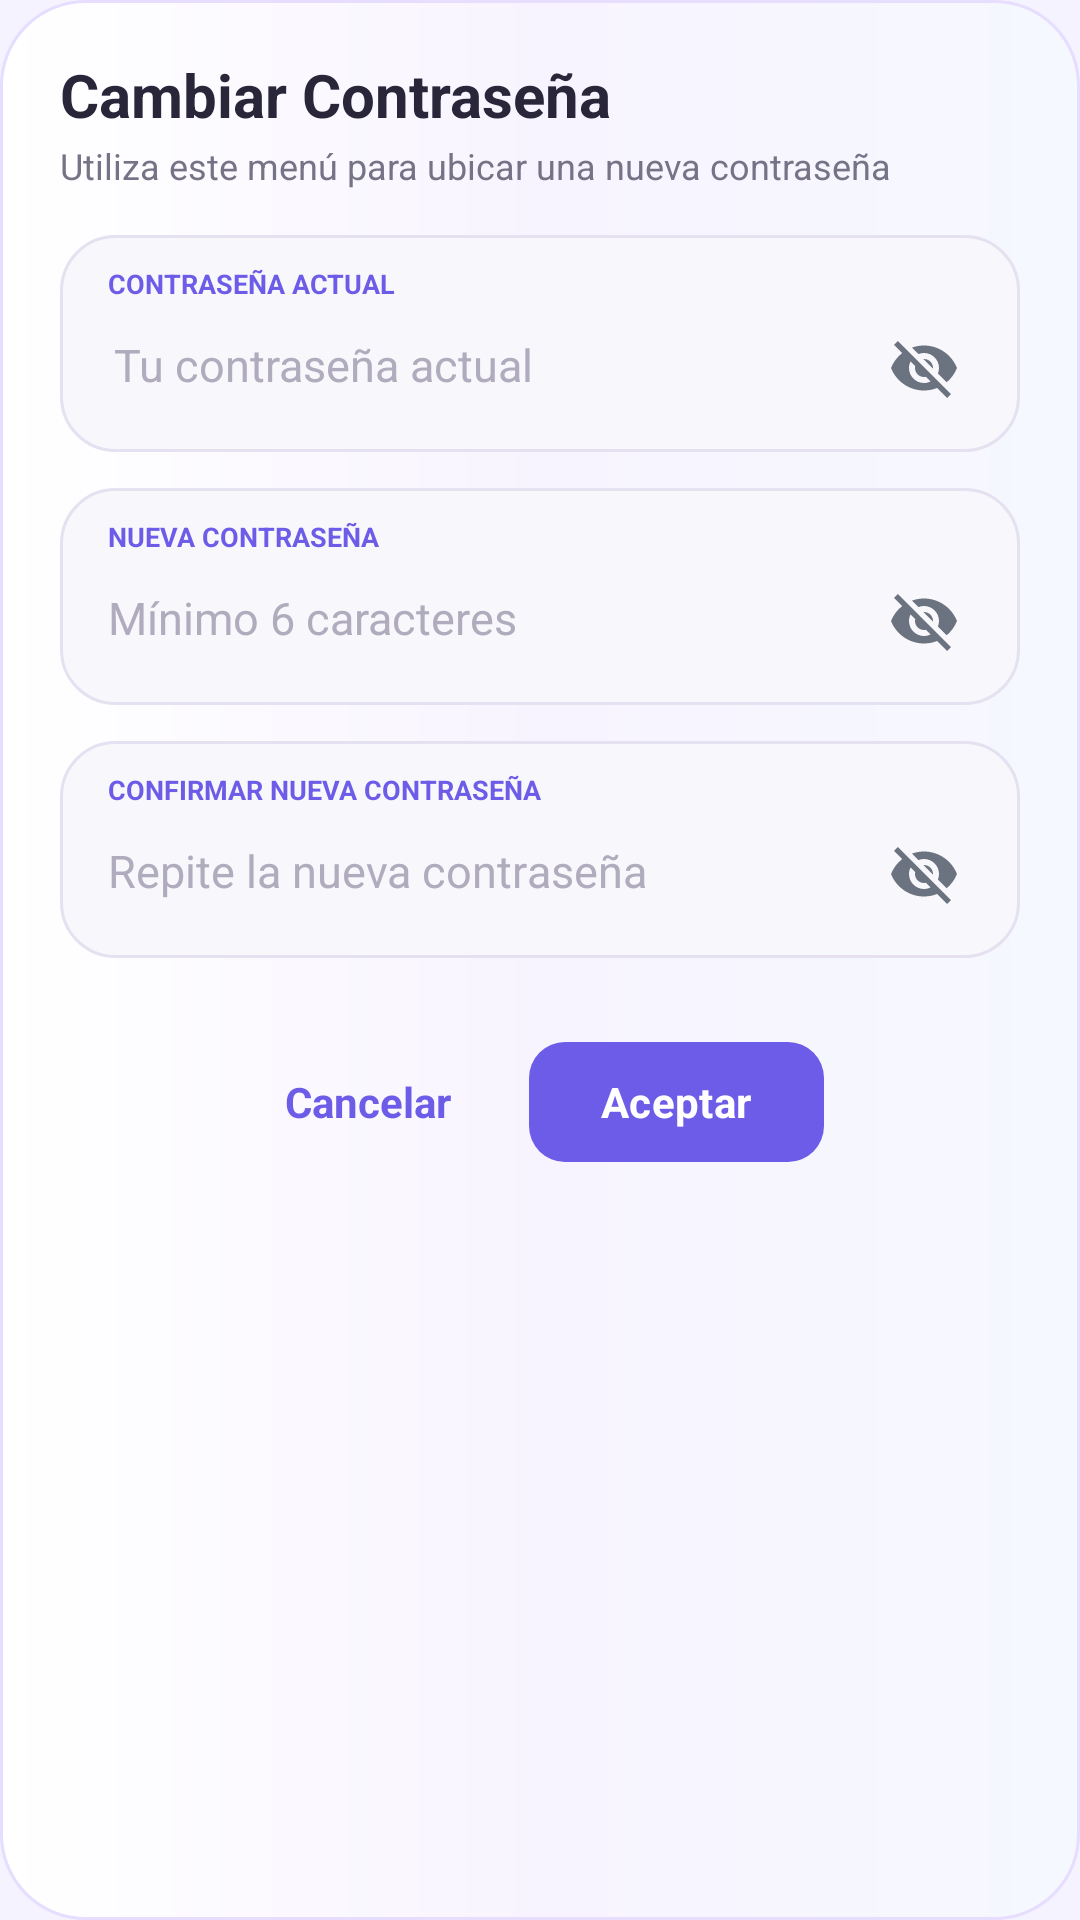

Screen size 1080 × 1920. Icon name, then its box in pixels as [left=x1, top=y1, right=x2, bottom=y2]:
ojo cerrado: [left=891, top=341, right=957, bottom=398], [left=891, top=594, right=957, bottom=651], [left=891, top=847, right=957, bottom=904]
